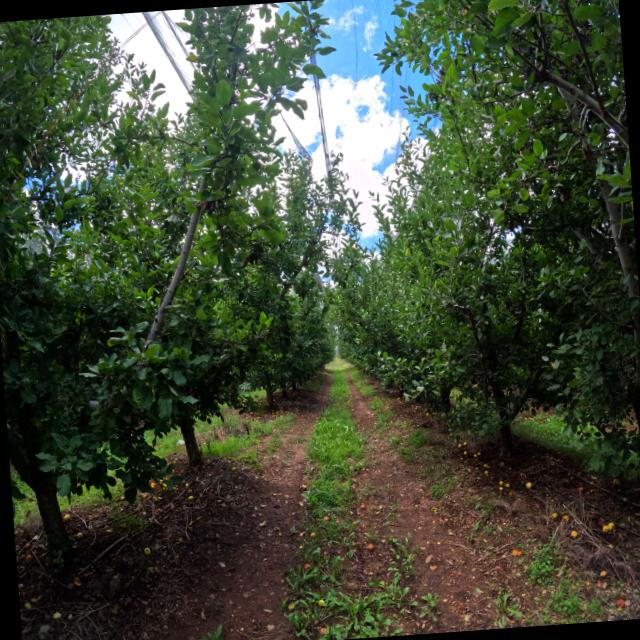-FireBlight-: (201, 199, 220, 215)
